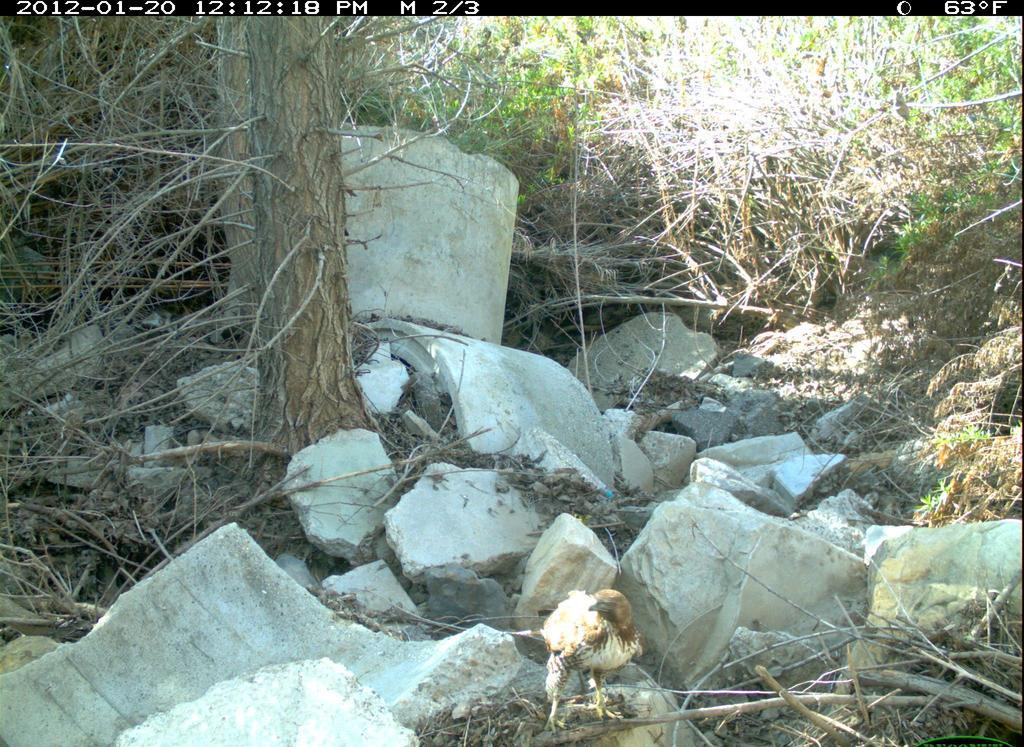bird: (473, 566, 722, 725)
